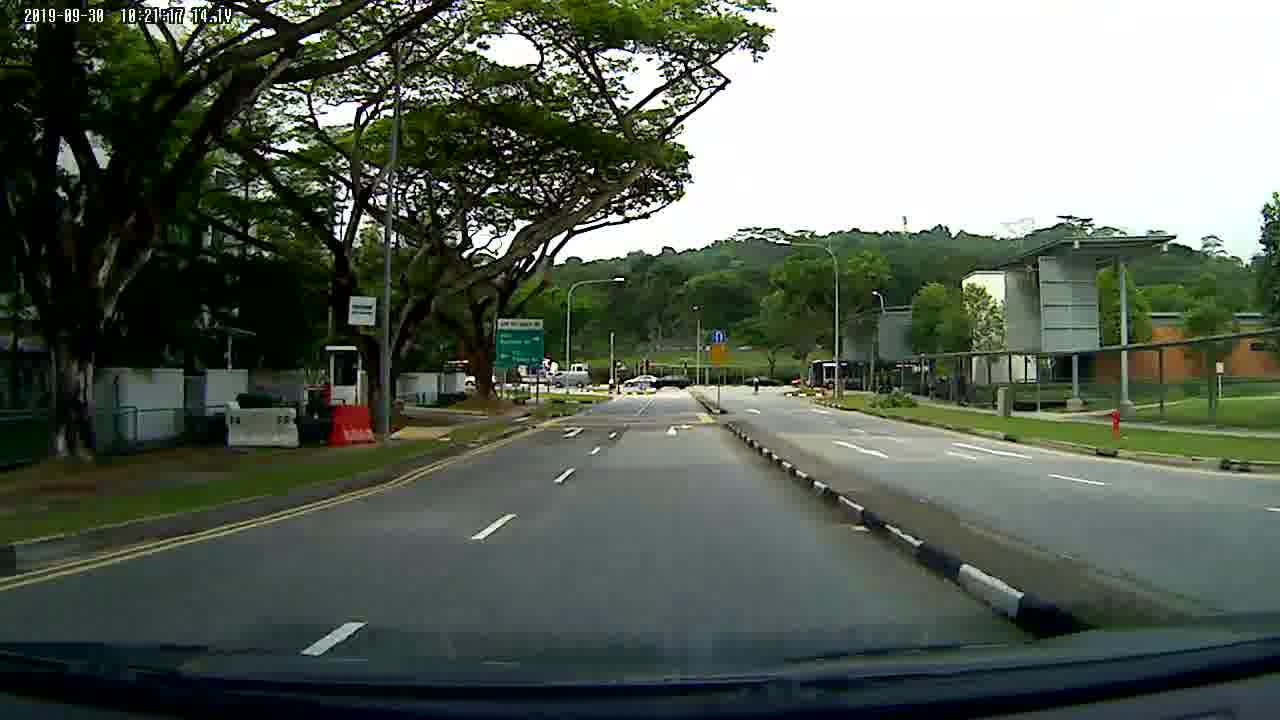car: (624, 373, 660, 386)
